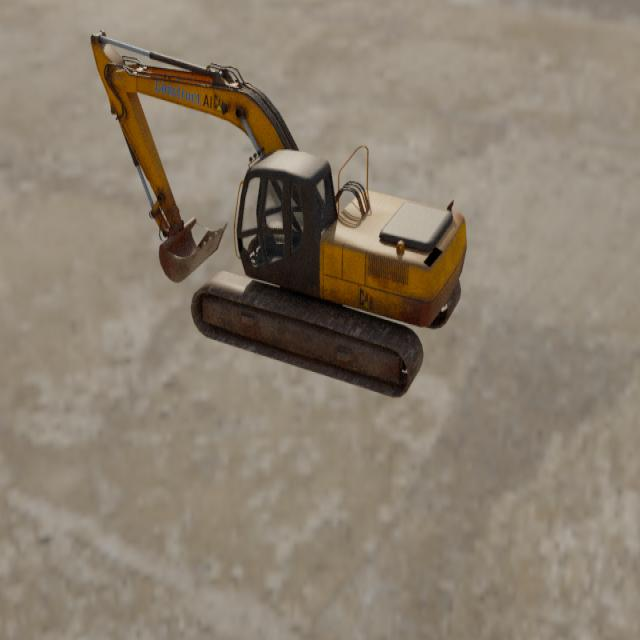excavator: (89, 28, 467, 397)
